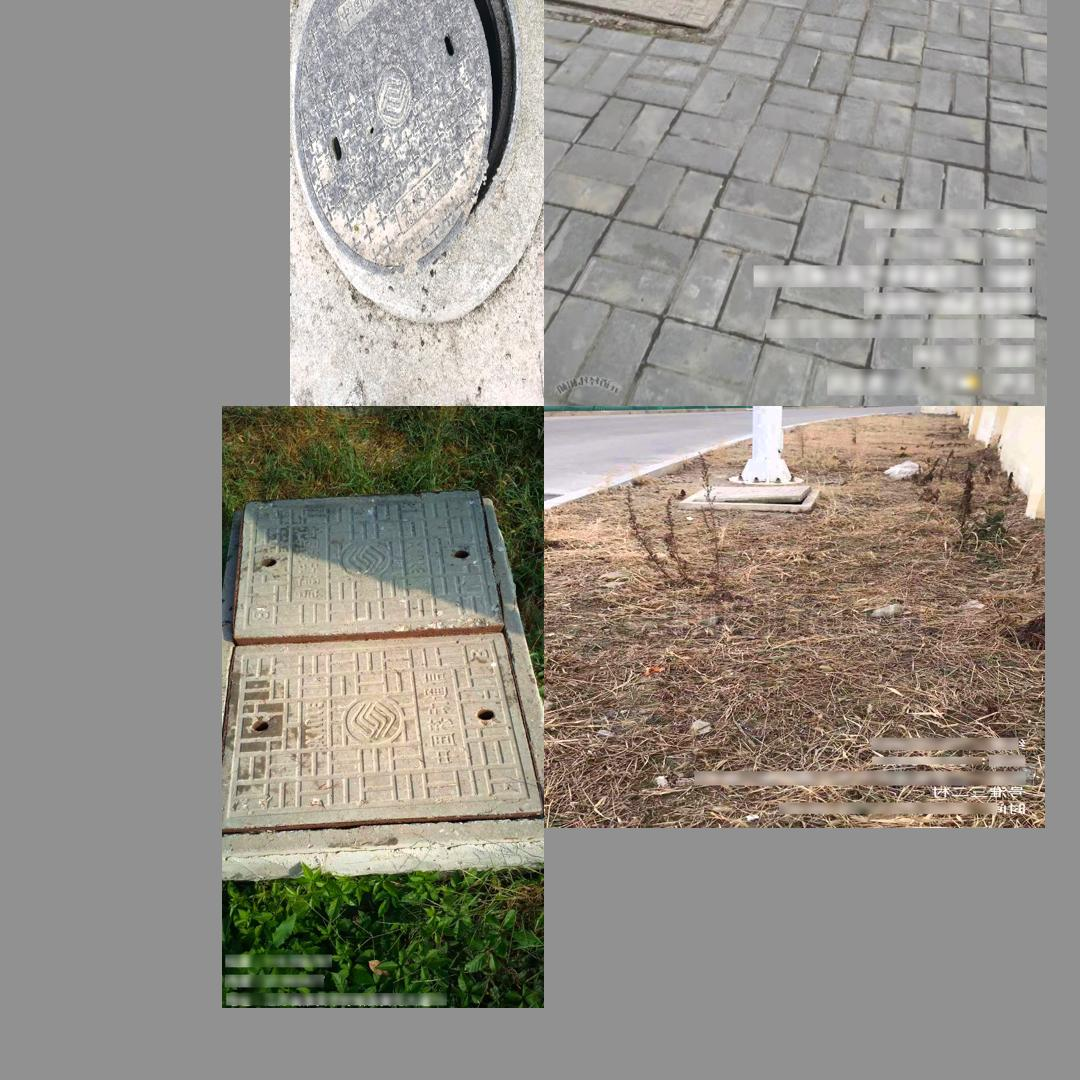uncovered: (222, 489, 544, 877), (293, 0, 521, 273), (544, 0, 800, 46), (680, 484, 820, 514)
